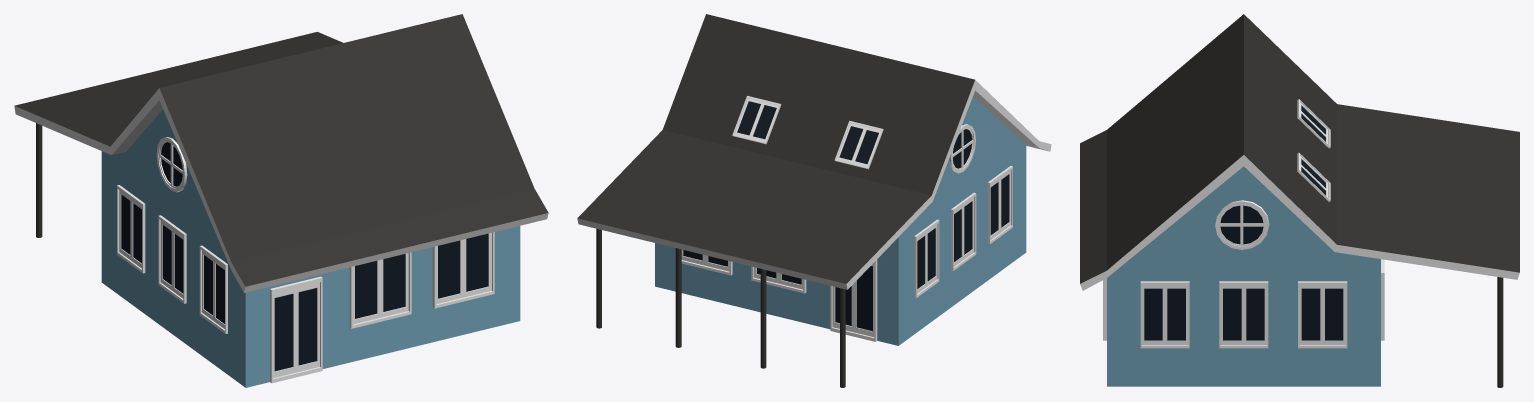
The model's file is Maison 2.fbx.
3 renders of one model, left to right at view 1: azimuth 30°, elevation 25°; view 2: azimuth 150°, elevation 25°; view 3: azimuth 270°, elevation 25°, orthographic. The views are drawn at different scales.
Visible parts, largest first — view 1: Maison2; view 2: Maison2; view 3: Maison2.
Part boxes in pixels (left/top/right/bottom): Maison2: left=14, top=14, right=548, bottom=387; Maison2: left=577, top=14, right=1051, bottom=387; Maison2: left=1080, top=14, right=1519, bottom=387.
Size of the model in its own units: 212 by 280 by 168.
